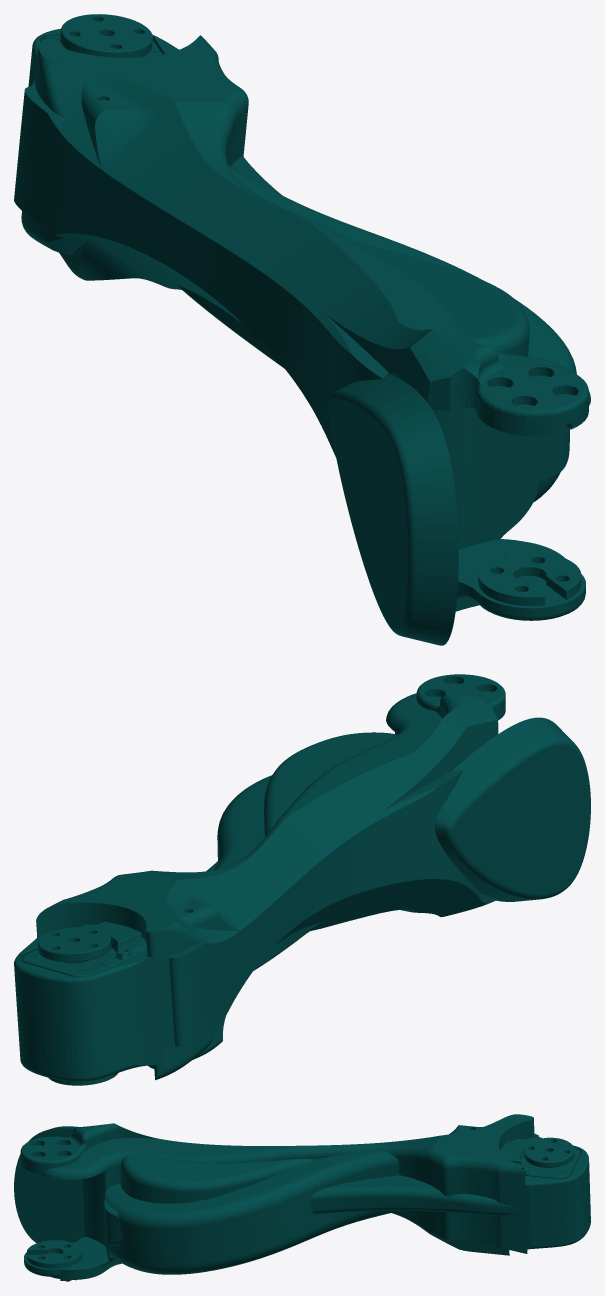
Rendered from leg_right_knee_pitch_visuals.obj.
The picture shows the model from 3 angles, top to bottom: view 1: azimuth 30°, elevation 25°; view 2: azimuth 150°, elevation 25°; view 3: azimuth 270°, elevation 25°; orthographic projection. The views are drawn at different scales.
Size of the model in its own units: 0.0685 by 0.0609 by 0.22.
